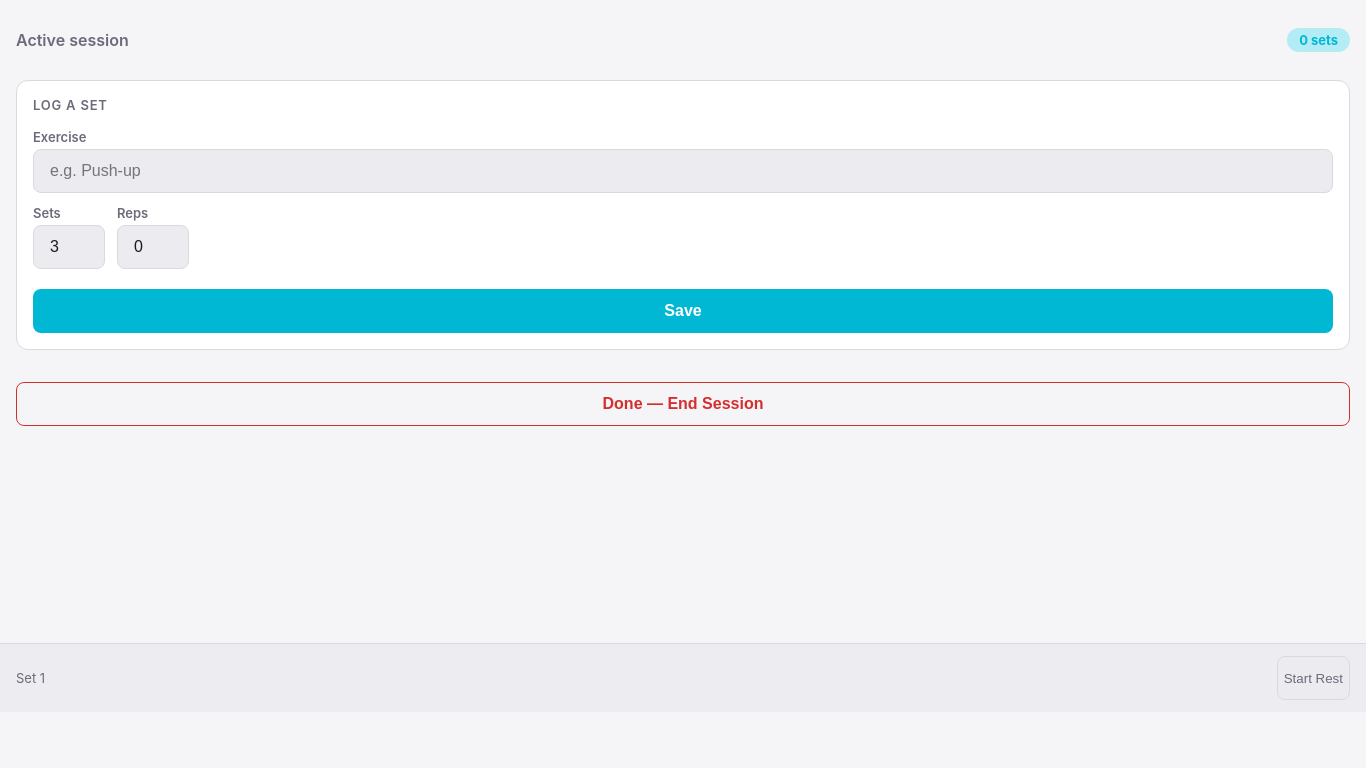
Test: SessionScreen isClosing and closeError states (step 01-05) › close button shows Closing… while the session is being closed
The width and height of the screenshot is (1366, 768).
Click the button with aria-label "close session": [683, 404] box left=16, top=382, right=1350, bottom=426
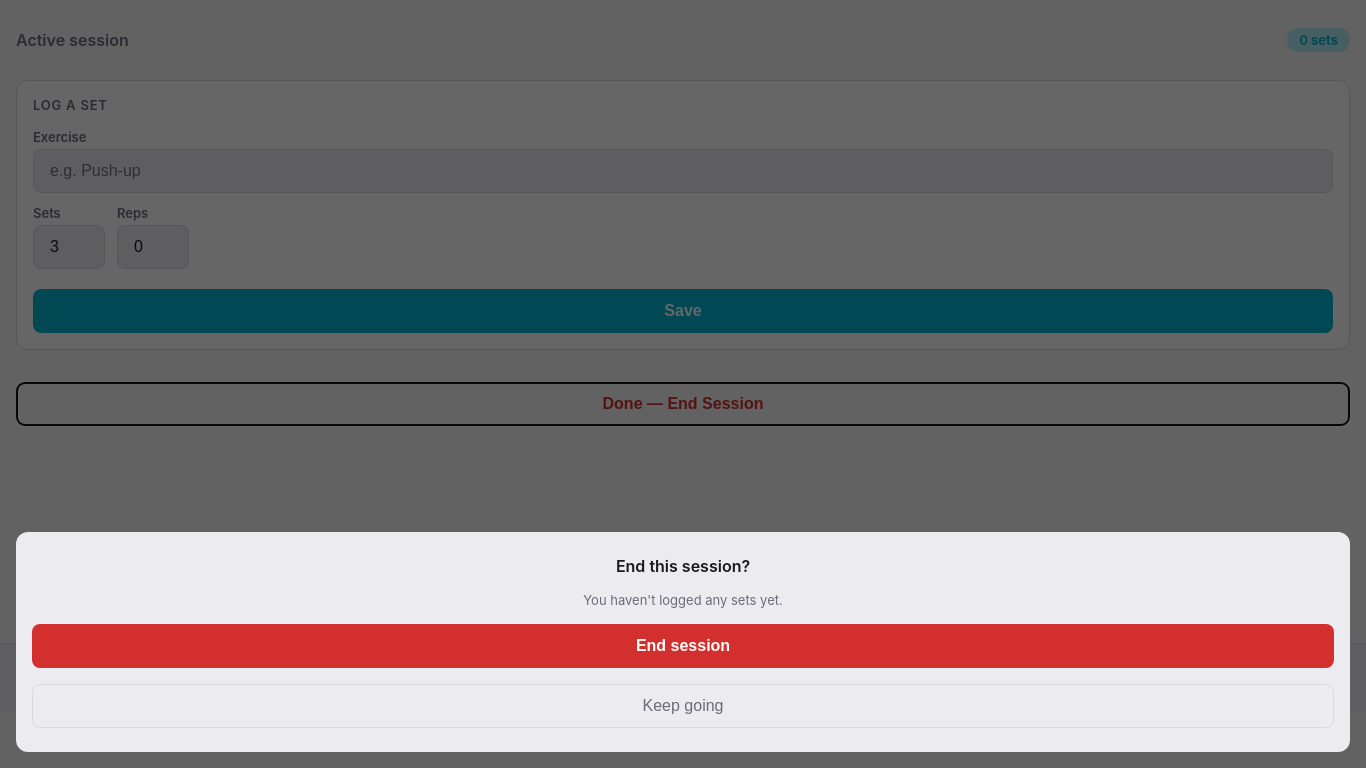
Click the button "End session": [683, 646] box left=32, top=624, right=1334, bottom=668
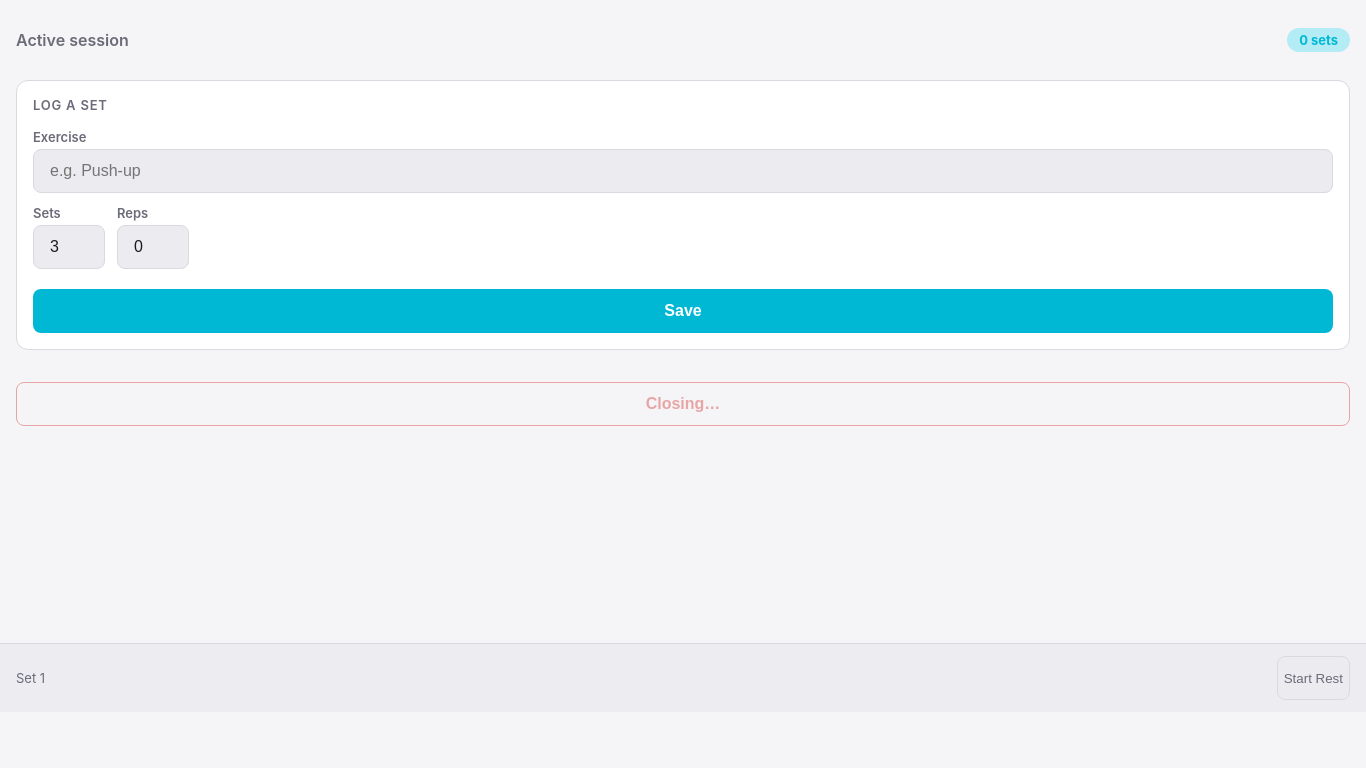
Now the button with aria-label "close session" reads "Closing…", box left=16, top=382, right=1350, bottom=426
